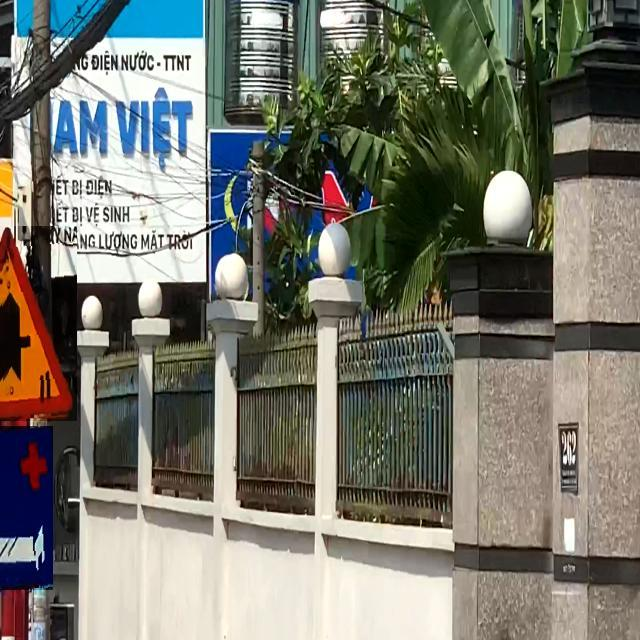R-425: (0, 426, 53, 590)
W-207b: (0, 226, 77, 421)
